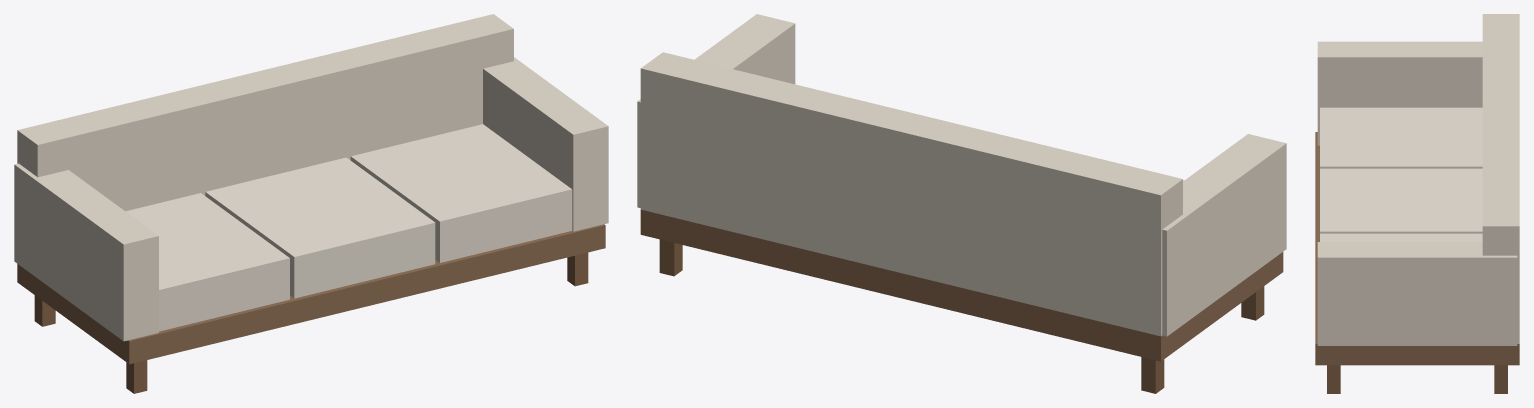
The model's file is DAN-0042_tripo_7210.glb.
3 renders of one model, left to right at view 1: azimuth 30°, elevation 25°; view 2: azimuth 150°, elevation 25°; view 3: azimuth 270°, elevation 25°, orthographic. The views are drawn at different scales.
Visible parts, largest first — view 1: BackrestShell, SeatCushionCenter, SeatCushionRight, ArmrestLeft, WalnutBaseFrame, SeatCushionLeft, ArmrestRight, LegFrontLeft, LegFrontRight; view 2: BackrestShell, ArmrestLeft, WalnutBaseFrame, ArmrestRight, LegBackLeft, LegBackRight, LegFrontLeft; view 3: ArmrestRight, ArmrestLeft, SeatCushionCenter, SeatCushionLeft, BackrestShell, WalnutBaseFrame, SeatCushionRight, LegFrontRight, LegBackRight.
Part boxes in pixels (x1=…): BackrestShell: x1=17, y1=14, x2=513, y2=211; SeatCushionCenter: x1=205, y1=157, x2=435, y2=298; SeatCushionRight: x1=350, y1=124, x2=572, y2=262; ArmrestLeft: x1=14, y1=163, x2=158, y2=341; WalnutBaseFrame: x1=17, y1=224, x2=605, y2=364; SeatCushionLeft: x1=126, y1=193, x2=289, y2=331; ArmrestRight: x1=483, y1=57, x2=608, y2=231; LegFrontLeft: x1=126, y1=360, x2=147, y2=393; LegFrontRight: x1=567, y1=252, x2=588, y2=286; BackrestShell: x1=640, y1=52, x2=1182, y2=336; ArmrestLeft: x1=1162, y1=134, x2=1286, y2=336; WalnutBaseFrame: x1=640, y1=209, x2=1283, y2=361; ArmrestRight: x1=637, y1=14, x2=795, y2=207; LegBackLeft: x1=1141, y1=357, x2=1164, y2=393; LegBackRight: x1=659, y1=239, x2=682, y2=276; LegFrontLeft: x1=1241, y1=286, x2=1264, y2=320; ArmrestRight: x1=1317, y1=242, x2=1517, y2=345; ArmrestLeft: x1=1317, y1=41, x2=1482, y2=145; SeatCushionCenter: x1=1320, y1=168, x2=1482, y2=233; SeatCushionLeft: x1=1320, y1=107, x2=1482, y2=168; BackrestShell: x1=1482, y1=14, x2=1519, y2=343; WalnutBaseFrame: x1=1315, y1=132, x2=1519, y2=365; SeatCushionRight: x1=1320, y1=233, x2=1482, y2=241; LegFrontRight: x1=1327, y1=365, x2=1340, y2=393; LegBackRight: x1=1494, y1=365, x2=1507, y2=393.
Size of the model in its own units: 2.2 by 0.82 by 0.88.
